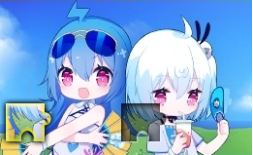gap: (121, 103, 165, 142)
